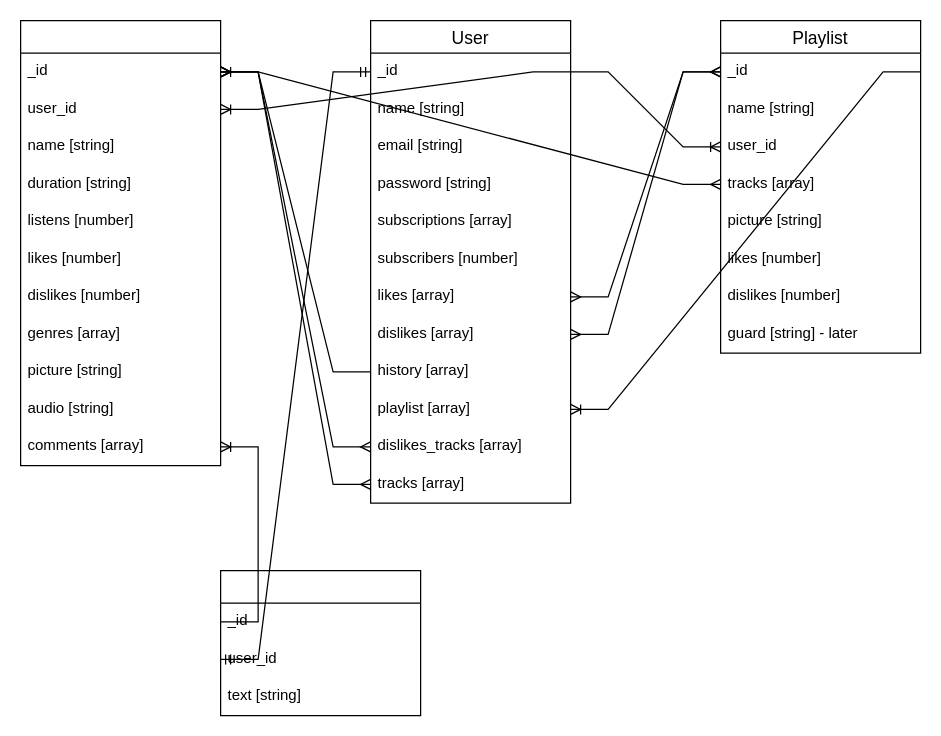
This 941x736 diagram has some shape labels left out. The box of each missing label's shape, as (x1, y1, x2, y2) in pixels:
Comment: (219, 569, 421, 716)
Track: (19, 19, 221, 466)
